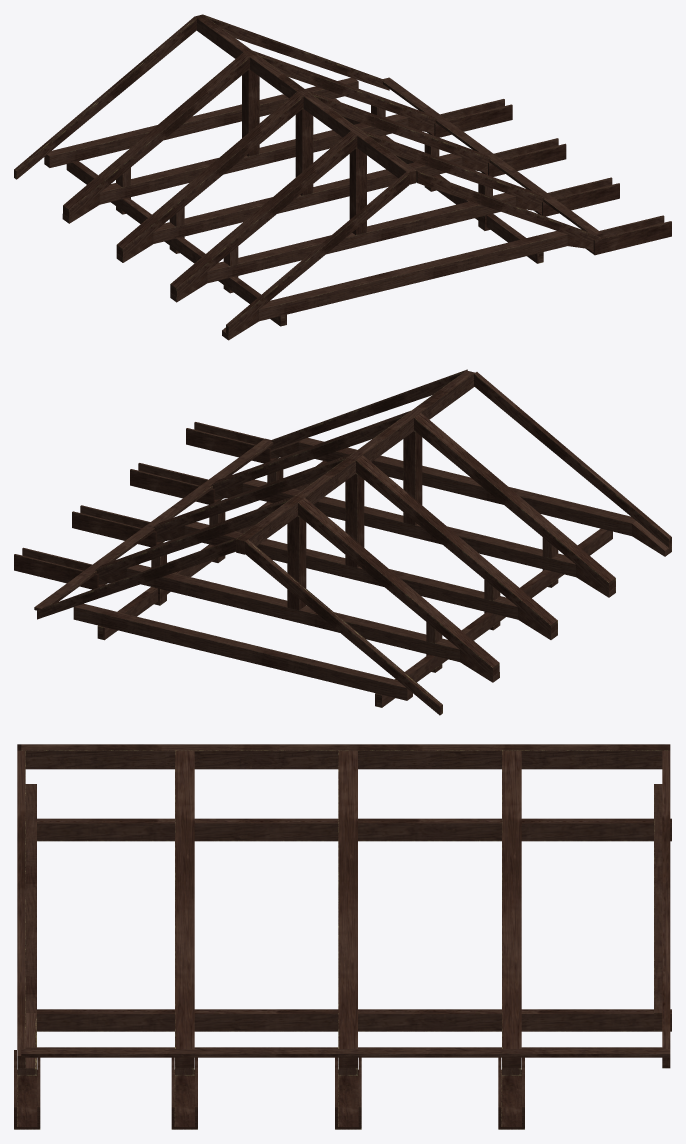
File: WoodBeam.glb
The picture shows the model from 3 angles, top to bottom: view 1: azimuth 30°, elevation 25°; view 2: azimuth 150°, elevation 25°; view 3: azimuth 270°, elevation 25°; orthographic projection. The views are drawn at different scales.
Visible parts, largest first — view 1: SM_WoodenBeams2; view 2: SM_WoodenBeams2; view 3: SM_WoodenBeams2.
Part boxes in pixels (x1,y1,x2,y2): SM_WoodenBeams2: (14,14,671,340); SM_WoodenBeams2: (14,369,671,715); SM_WoodenBeams2: (14,744,671,1129).
Size of the model in its own units: 5.94 by 1.62 by 5.03.
Materials: 1 (1 with a texture image).
